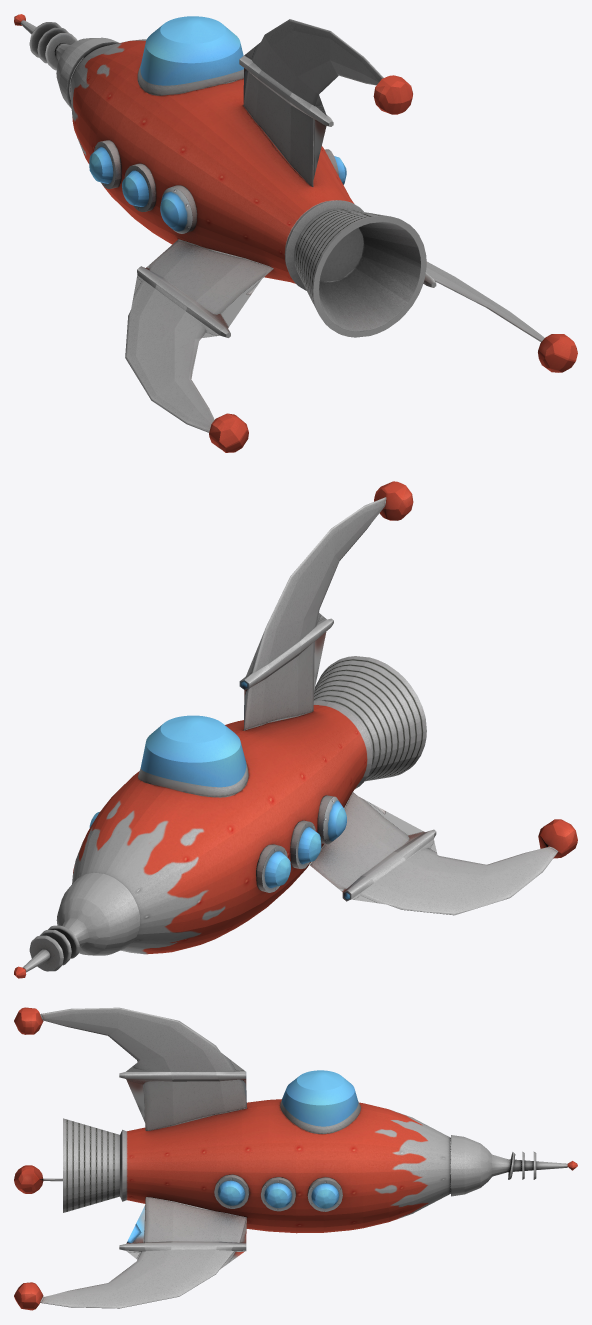
File: rocket04.obj
The picture shows the model from 3 angles, top to bottom: view 1: azimuth 30°, elevation 25°; view 2: azimuth 150°, elevation 25°; view 3: azimuth 270°, elevation 25°; orthographic projection. The views are drawn at different scales.
Visible parts, largest first — view 1: _Rocket_Ship_v1_SG; view 2: _Rocket_Ship_v1_SG; view 3: _Rocket_Ship_v1_SG.
Boxes of the visible parts, x1,y1,x2,y2 form: _Rocket_Ship_v1_SG: (14, 14, 577, 452); _Rocket_Ship_v1_SG: (14, 481, 577, 978); _Rocket_Ship_v1_SG: (14, 1007, 577, 1310).
Bounding box in the file's own units: 15.39 × 13.57 × 28.54.
1 material, 1 textured.
